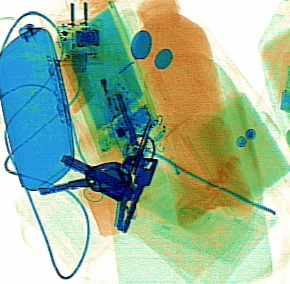lighter: (89, 49, 132, 126)
